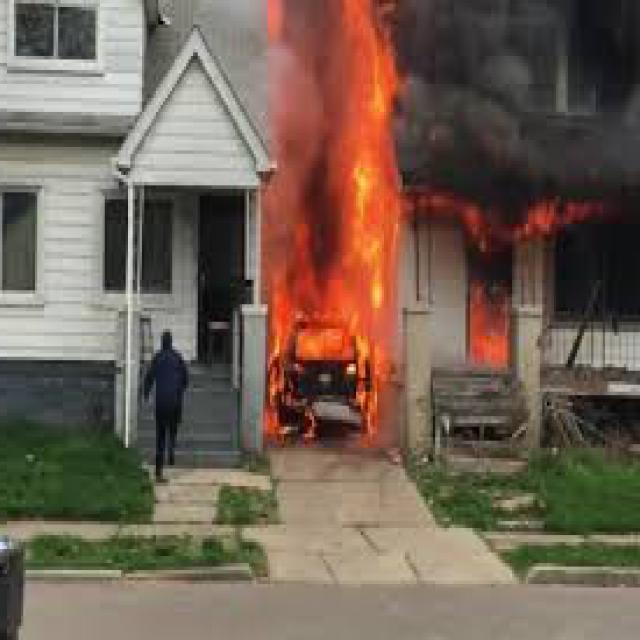Fire: (248, 0, 404, 445), (404, 196, 622, 236), (454, 283, 524, 385)
Smoke: (400, 0, 640, 188)
